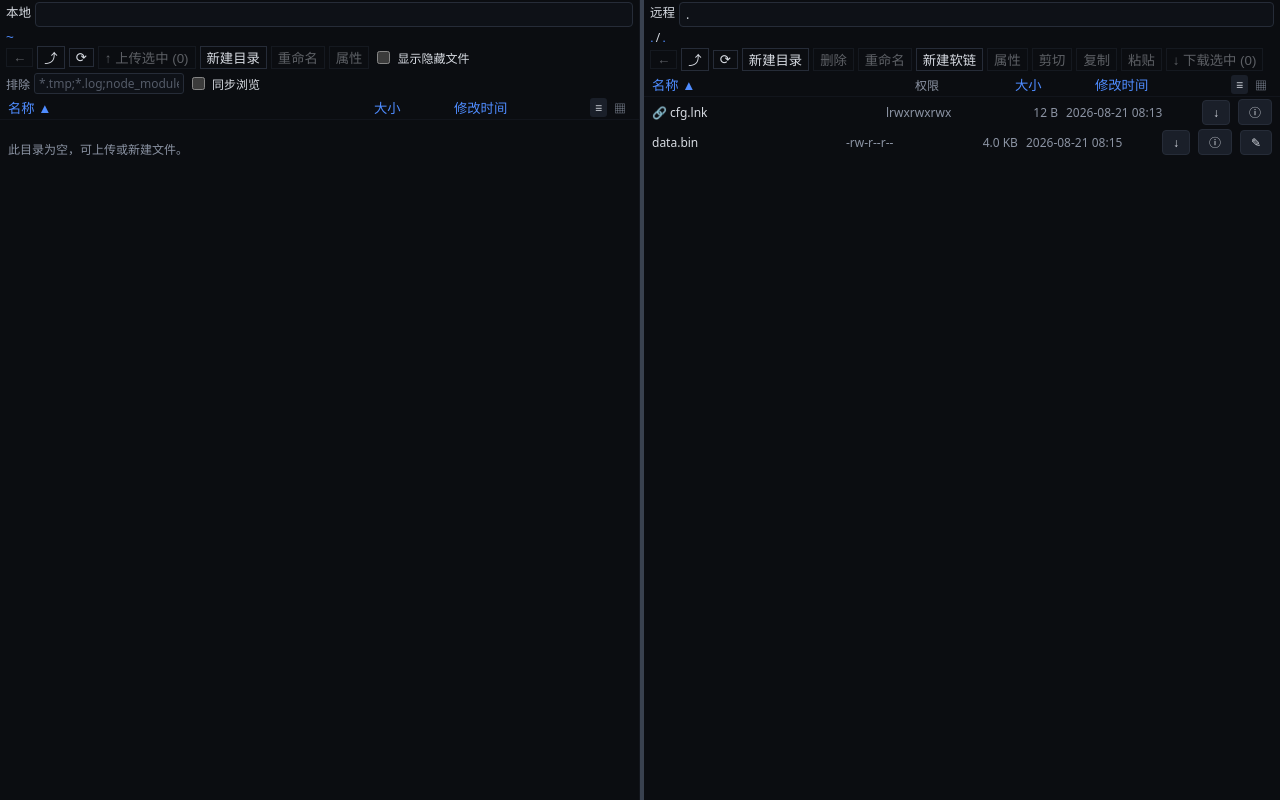
Scenario: SftpPane 属性对话框与新建软链（M4a） › 软链属性显示链自身元数据 + 指向何处 + 目标属性
Click the option that starts with "🔗 cfg.lnk". click: (680, 112)
box: x1=644 y1=97 x2=1279 y2=127
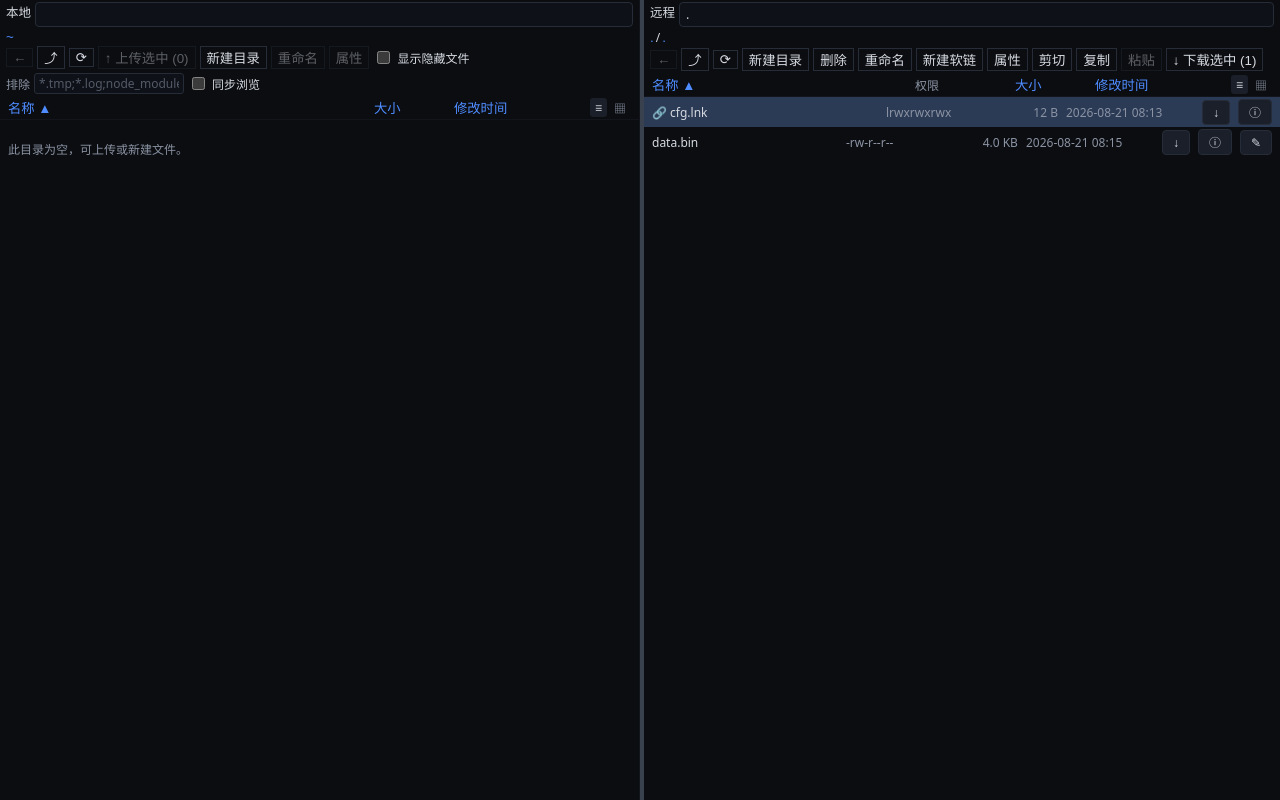
Click the button with test id "remote-props". click: (1007, 60)
box: x1=987 y1=48 x2=1028 y2=71
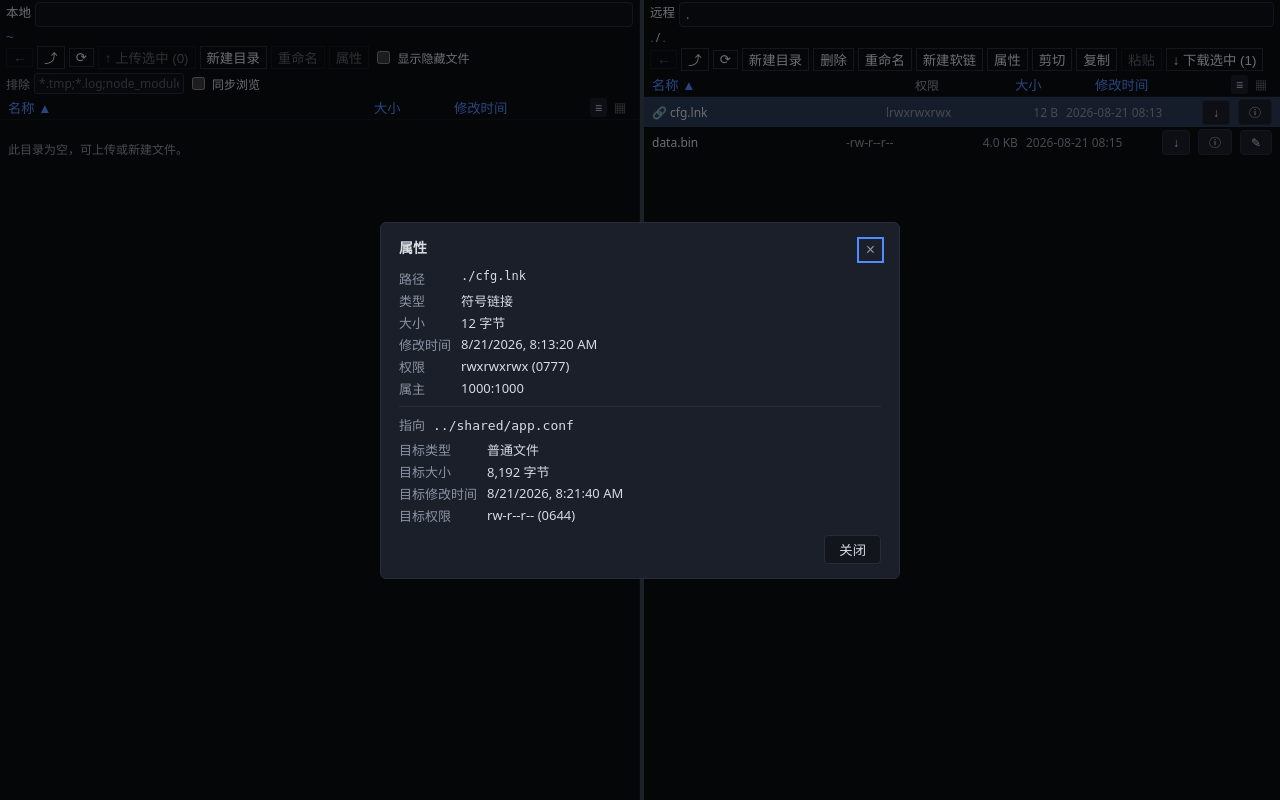
Expected: the element with test id "props-body" is shown, x1=399 y1=268 x2=597 y2=398
Expected: the text with test id "props-type" reads "符号链接", x1=461 y1=292 x2=513 y2=310
Expected: the text with test id "props-size" shows "12", x1=461 y1=314 x2=505 y2=332
